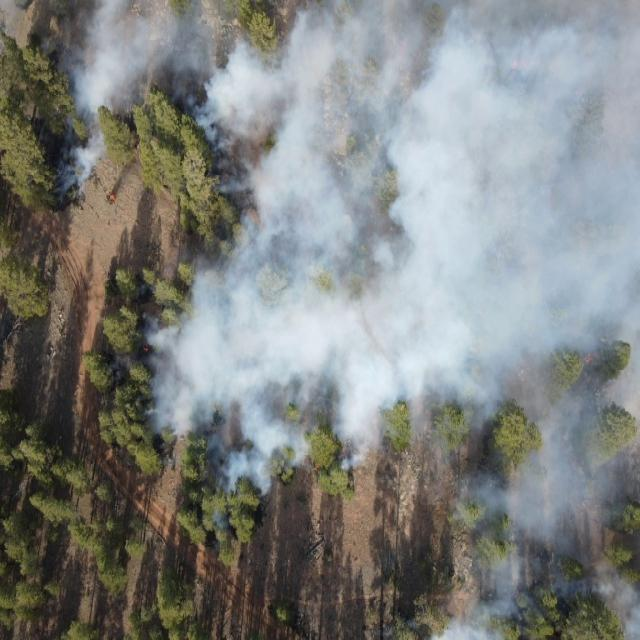fire: (508, 54, 544, 68), (581, 351, 597, 363), (107, 193, 116, 203), (142, 344, 150, 354)
smoke: (191, 150, 640, 472), (39, 0, 640, 150), (456, 471, 640, 601), (130, 270, 190, 466), (207, 472, 276, 533), (428, 602, 530, 640), (0, 0, 39, 61), (52, 150, 100, 199), (609, 601, 640, 640), (406, 616, 422, 634), (380, 627, 398, 640)
